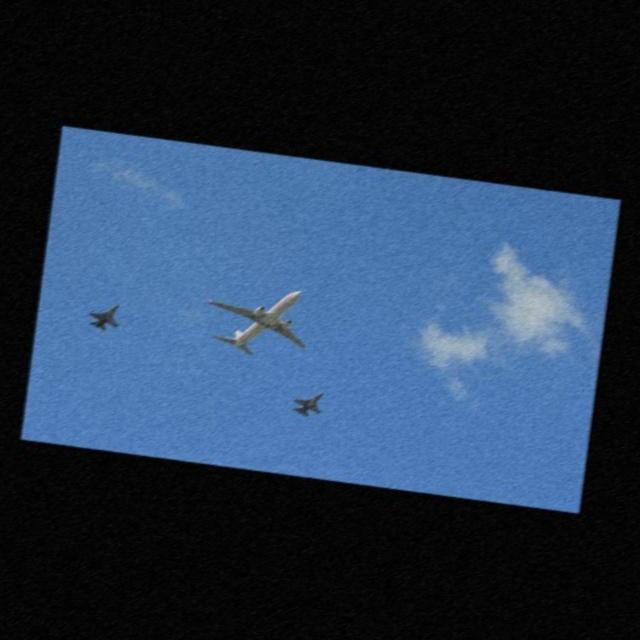airplane: (202, 288, 313, 358)
